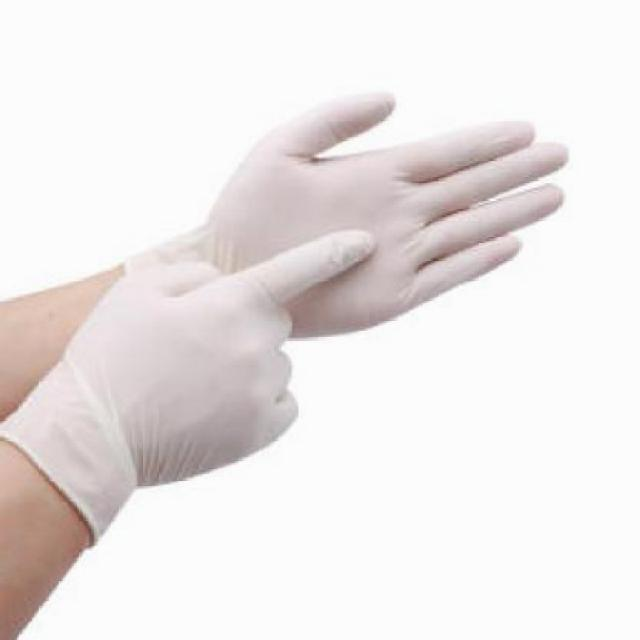glove: (40, 68, 582, 352), (2, 223, 378, 559)
